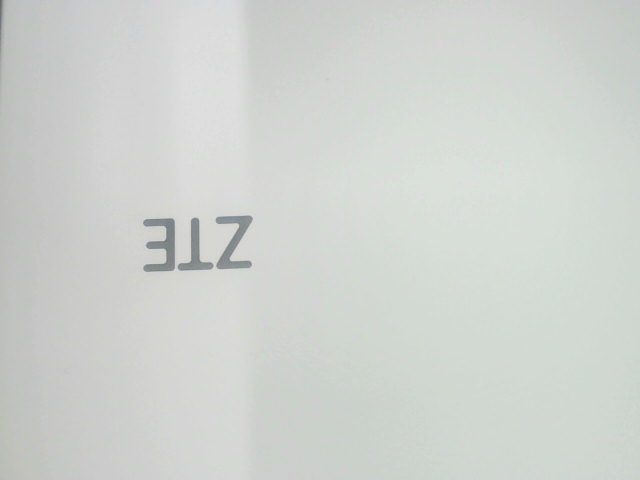AN_ZTE: (133, 208, 260, 272)
